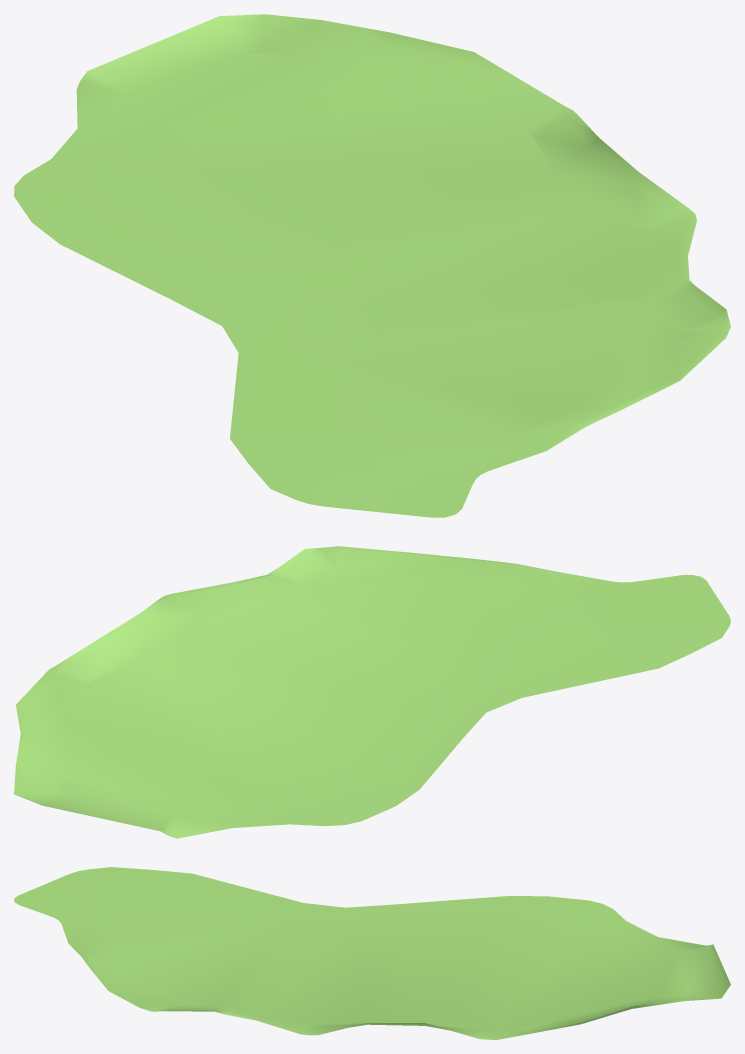
The model's file is IslandPlayer1.001.fbx.
3 renders of one model, top to bottom at view 1: azimuth 30°, elevation 25°; view 2: azimuth 150°, elevation 25°; view 3: azimuth 270°, elevation 25°, orthographic. The views are drawn at different scales.
Visible parts, largest first — view 1: IslandPlayer1.001; view 2: IslandPlayer1.001; view 3: IslandPlayer1.001.
Part boxes in pixels (x1,y1,x2,y2): IslandPlayer1.001: [14, 14, 730, 517]; IslandPlayer1.001: [14, 546, 730, 838]; IslandPlayer1.001: [14, 867, 730, 1039].
Size of the model in its own units: 48.29 by 1.97 by 30.16.
